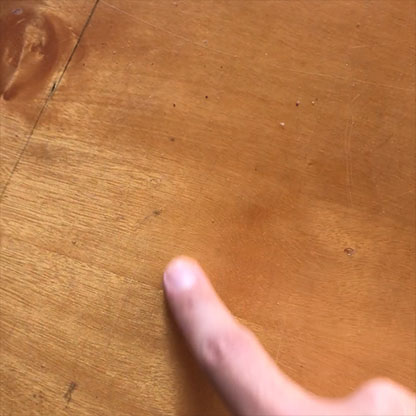fingertip: (155, 252, 214, 303)
